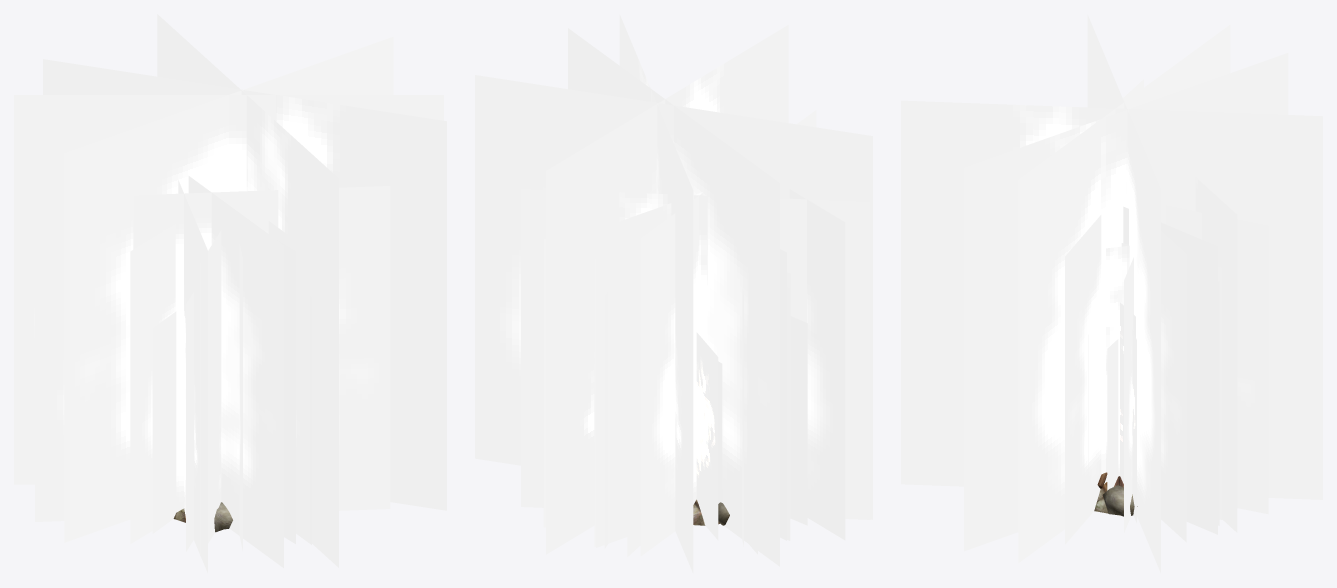
File: a_bonfire01.glb
3 views of the same model, side by side, from view 1: azimuth 30°, elevation 25°; view 2: azimuth 150°, elevation 25°; view 3: azimuth 270°, elevation 25° (orthographic).
Parts seen in each view (by area): view 1: a_bonfire01; view 2: a_bonfire01; view 3: a_bonfire01.
Part boxes in pixels (x1,y1,x2,y2): a_bonfire01: (14, 14, 446, 572); a_bonfire01: (475, 14, 872, 573); a_bonfire01: (901, 15, 1322, 572).
Bounding box in the file's own units: 1.65 × 1.67 × 1.67.
6 materials, 6 textured.
